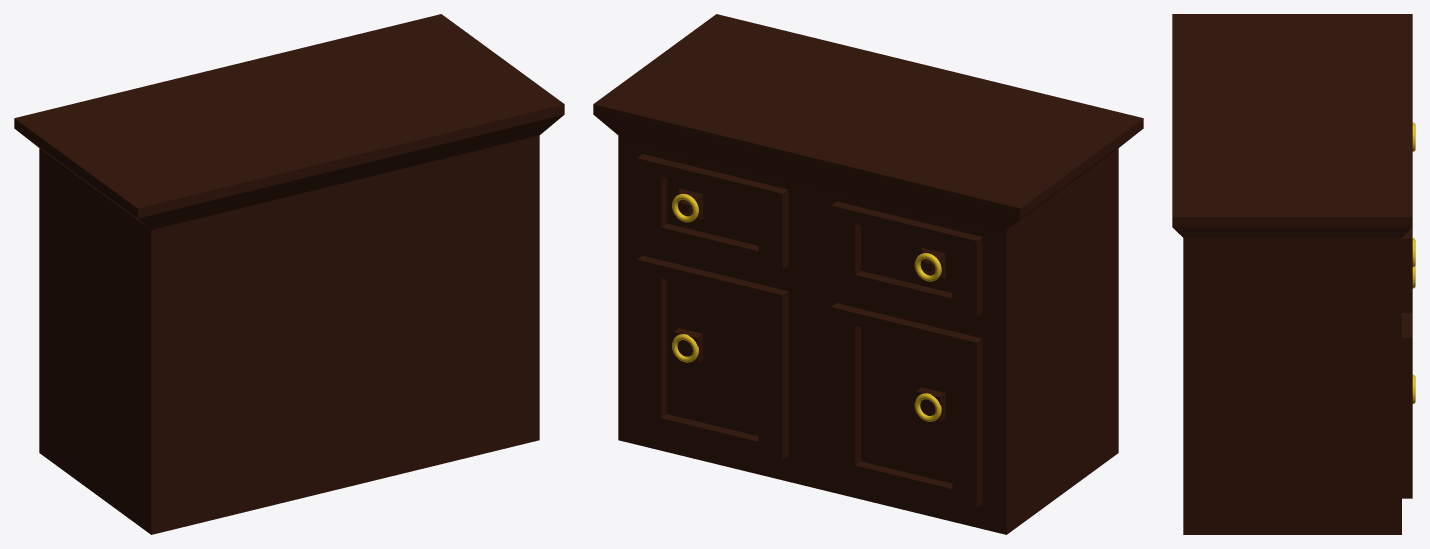
The model's file is SideBoard.fbx.
3 renders of one model, left to right at view 1: azimuth 30°, elevation 25°; view 2: azimuth 150°, elevation 25°; view 3: azimuth 270°, elevation 25°, orthographic. The views are drawn at different scales.
Parts seen in each view (by area): view 1: Sideboard; view 2: Sideboard; view 3: Sideboard.
Part boxes in pixels (left/top/right/bottom): Sideboard: left=14, top=14, right=564, bottom=534; Sideboard: left=593, top=14, right=1143, bottom=534; Sideboard: left=1172, top=14, right=1415, bottom=534.
Bounding box in the file's own units: 1760 × 1320 × 891.
